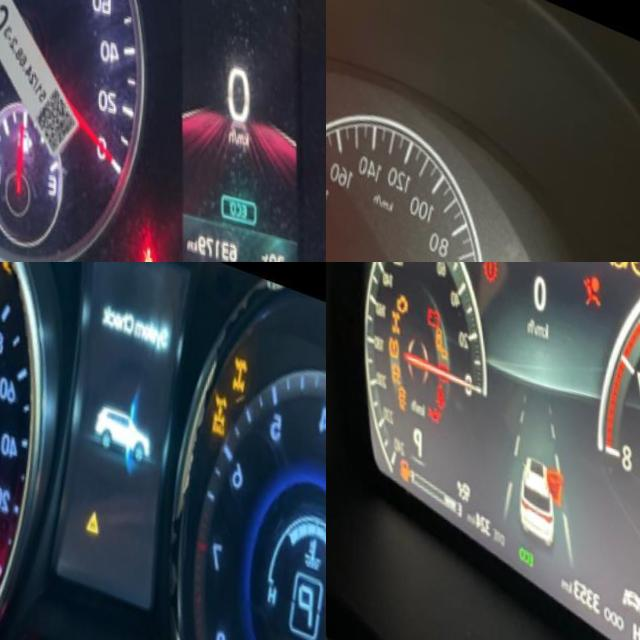Central Warning lamp: (84, 485, 103, 526)
Seat Belt: (139, 217, 160, 262)
